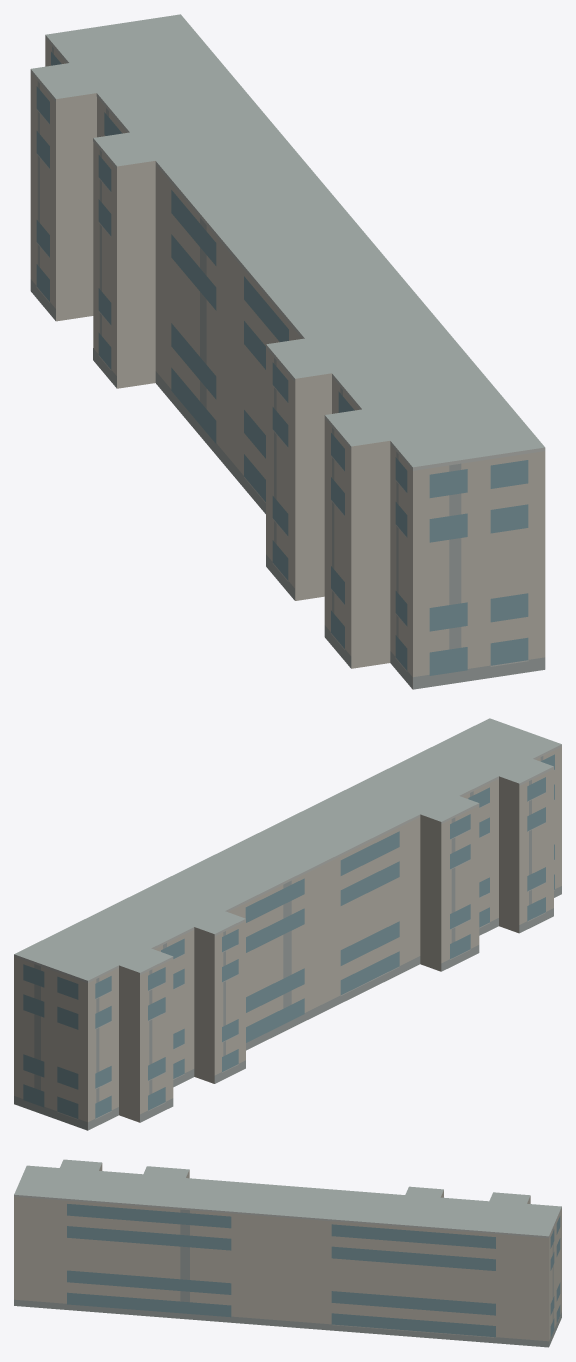
Rendered from residential-1415b6d4-0d59-48ee-8217-26f1d6edb281.glb.
3 views of the same model, one above another, from view 1: azimuth 30°, elevation 25°; view 2: azimuth 150°, elevation 25°; view 3: azimuth 270°, elevation 25° (orthographic). The views are drawn at different scales.
Visible parts, largest first — view 1: residential-1415b6d4-0d59-48ee-8217-26f1d6edb281.tmp; view 2: residential-1415b6d4-0d59-48ee-8217-26f1d6edb281.tmp; view 3: residential-1415b6d4-0d59-48ee-8217-26f1d6edb281.tmp.
Boxes of the visible parts, <box> form: residential-1415b6d4-0d59-48ee-8217-26f1d6edb281.tmp: <box>30,14,545,689</box>; residential-1415b6d4-0d59-48ee-8217-26f1d6edb281.tmp: <box>14,718,561,1130</box>; residential-1415b6d4-0d59-48ee-8217-26f1d6edb281.tmp: <box>14,1159,561,1347</box>.
Size of the model in its own units: 22.63 by 15.25 by 68.15.
